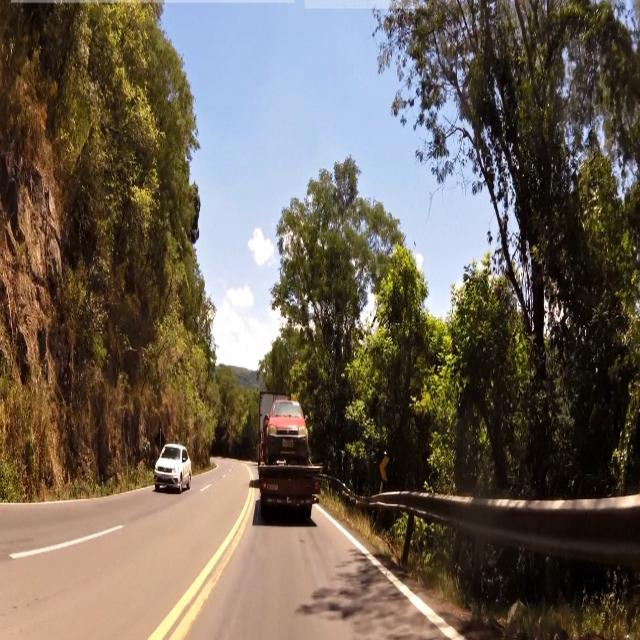Del: (378, 451, 392, 486)
